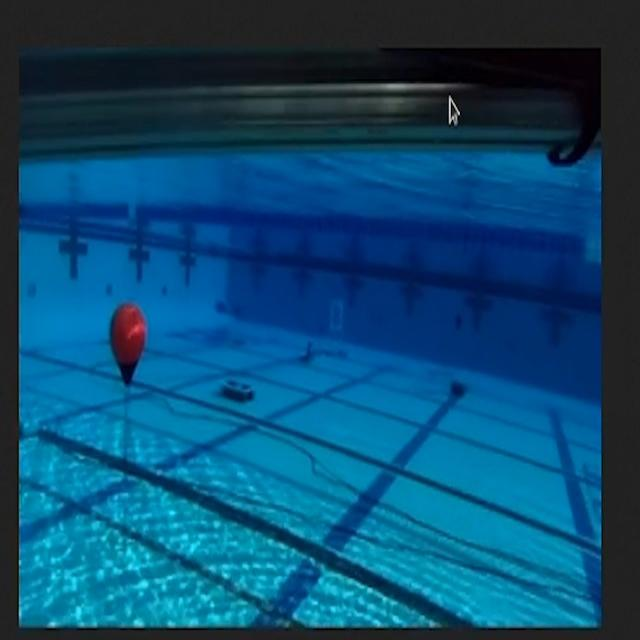Buoy: (108, 303, 146, 388)
